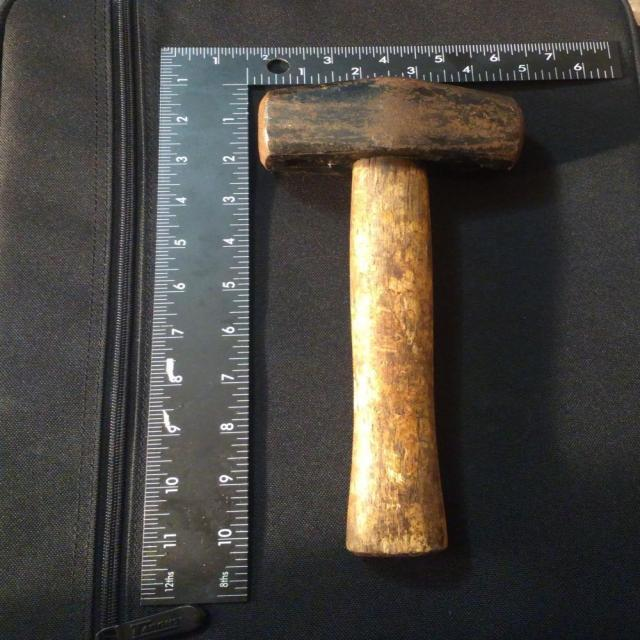hammer: (256, 73, 534, 560)
